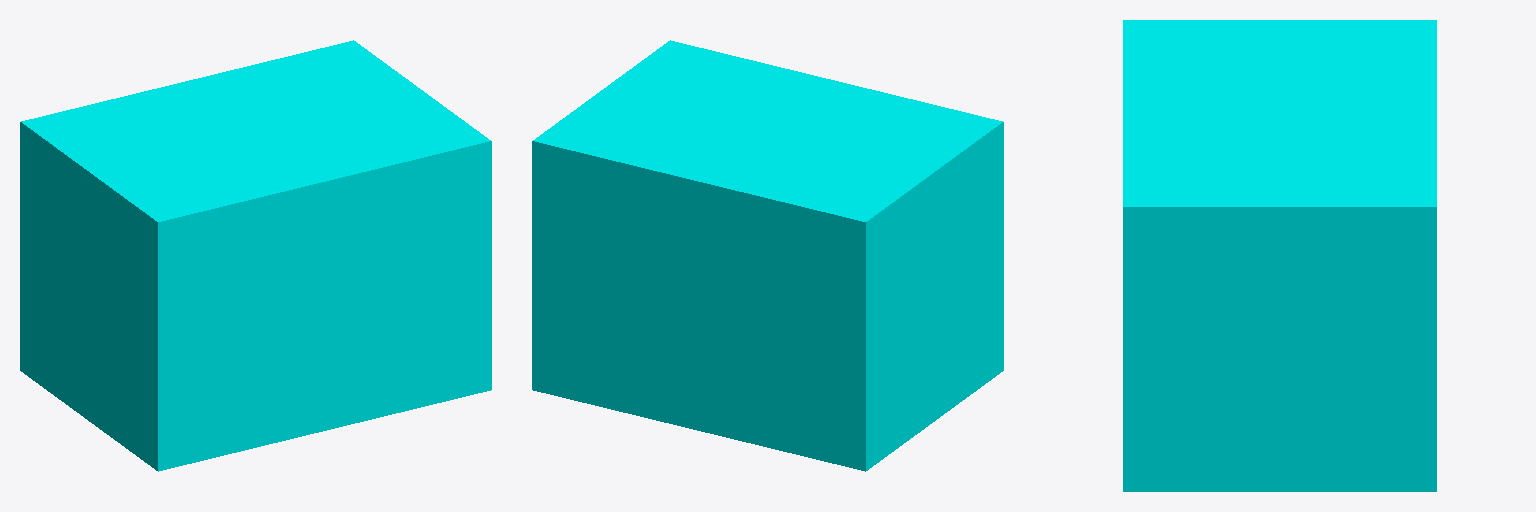
URDF robot description (block_blue):
<?xml version="1.0"?>
<robot name="block_blue">
  <link name="base_link">
    <contact>
      <lateral_friction value="0.7"/>
      <spinning_friction value=".001"/>
    </contact>
    <inertial>
      <origin rpy="0 0 0" xyz="0 0 0"/>
      <mass value="1"/>
      <inertia ixx="1" ixy="0" ixz="0" iyy="1" iyz="0" izz="1"/>
    </inertial>
    <visual>
      <origin rpy="0 0 0" xyz="0.0 0.0 0.0"/>
      <geometry>
        <box size="0.07 0.05 0.05"/>
      </geometry>
      <material name="cyan"> <!-- #virtualkss origin: blue -->
        <color rgba="0 1 1 1"/> <!-- #virtualkss origin: 0 0 1 1 -->
      </material>
    </visual>
    <collision>
      <origin rpy="0 0 0" xyz="0.0 0.0 0.0"/>
      <geometry>
        <box size="0.07 0.05 0.05"/>
      </geometry>
    </collision>
  </link>
</robot>

--- What the picture shows (computed from the rendered views, not written in the file) ---
3 views of the same robot in one strip: view 1: azimuth 30°, elevation 25°; view 2: azimuth 150°, elevation 25°; view 3: azimuth 270°, elevation 25° (orthographic).
Model block_blue with 1 links and 0 joints (none), rooted at base_link, posed every joint at zero.
Visible links, largest first — view 1: base_link; view 2: base_link; view 3: base_link.
Boxes of the visible links, bbox=[...] form: base_link: bbox=[20, 40, 491, 471]; base_link: bbox=[532, 40, 1003, 471]; base_link: bbox=[1123, 20, 1436, 491].
Size in the robot's own frame: 0.07 by 0.05 by 0.05 metres.
Geometry: primitives only (box / cylinder / sphere), no mesh files.
